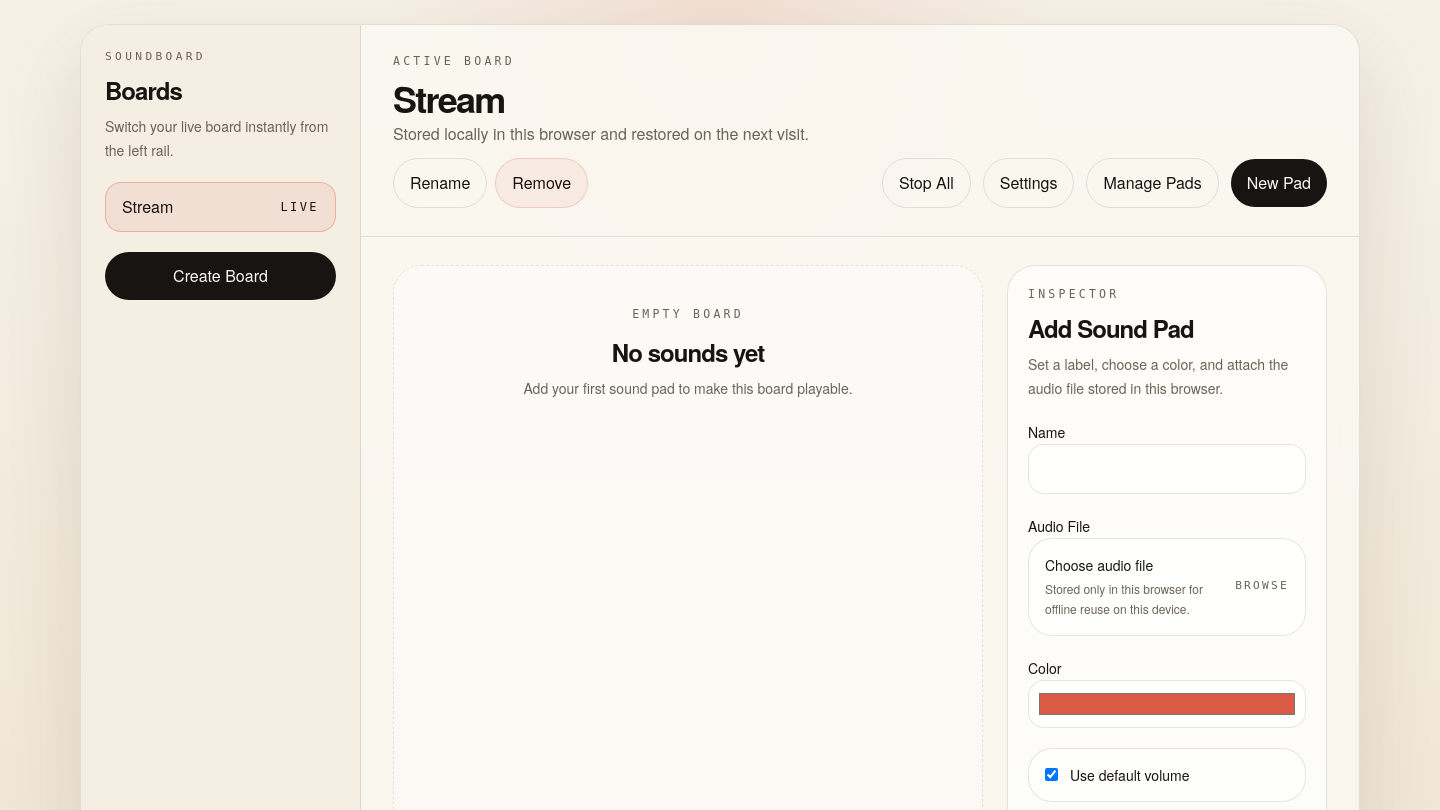
Test case: SoundboardApp › coalesces default pad volume changes before persisting them
Step 1. Click the button "Settings" → (1029, 183), box [983,158,1074,208]
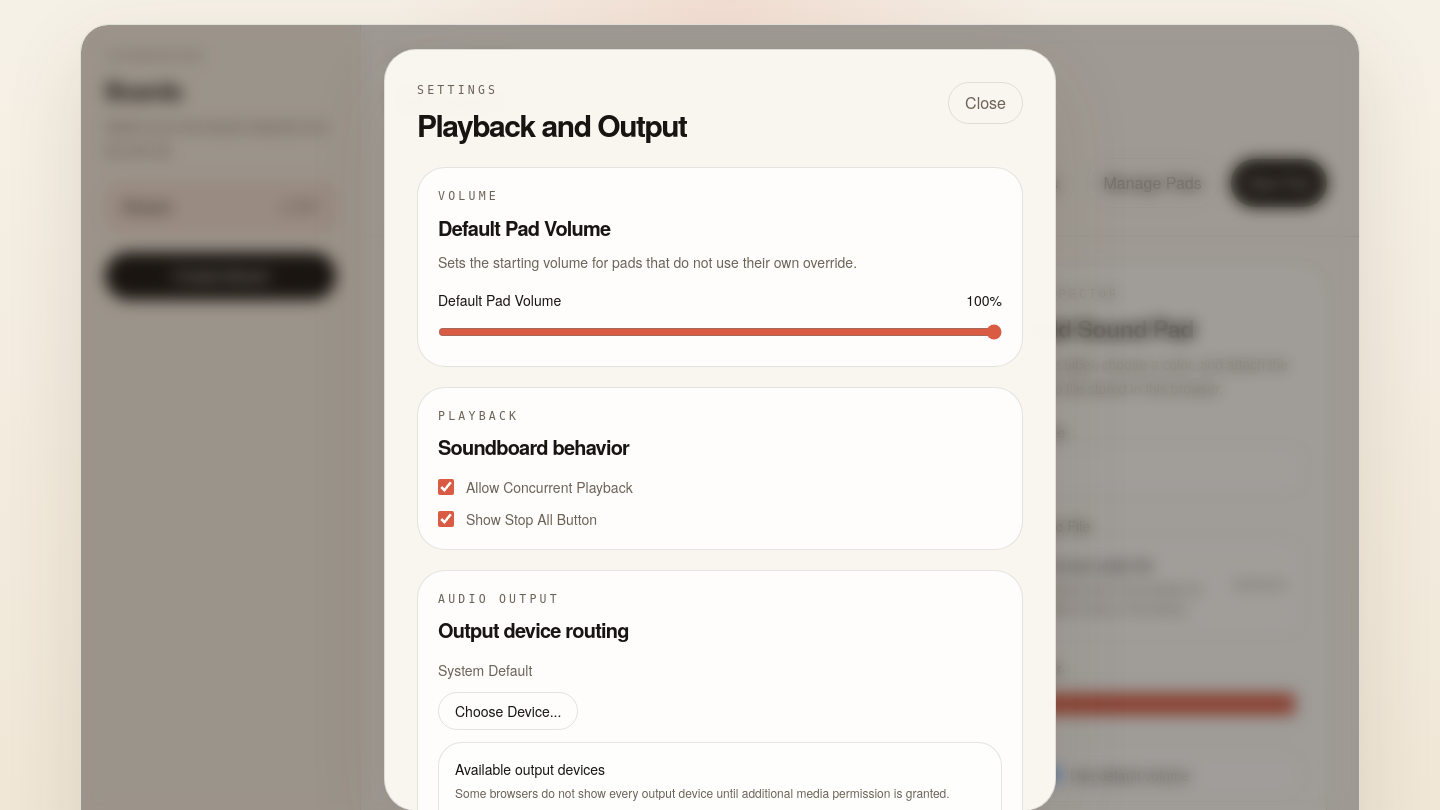
Step 2. Set the slider labelled "Default Pad Volume 100%" to "35" → (638, 332), box [438,324,1002,340]
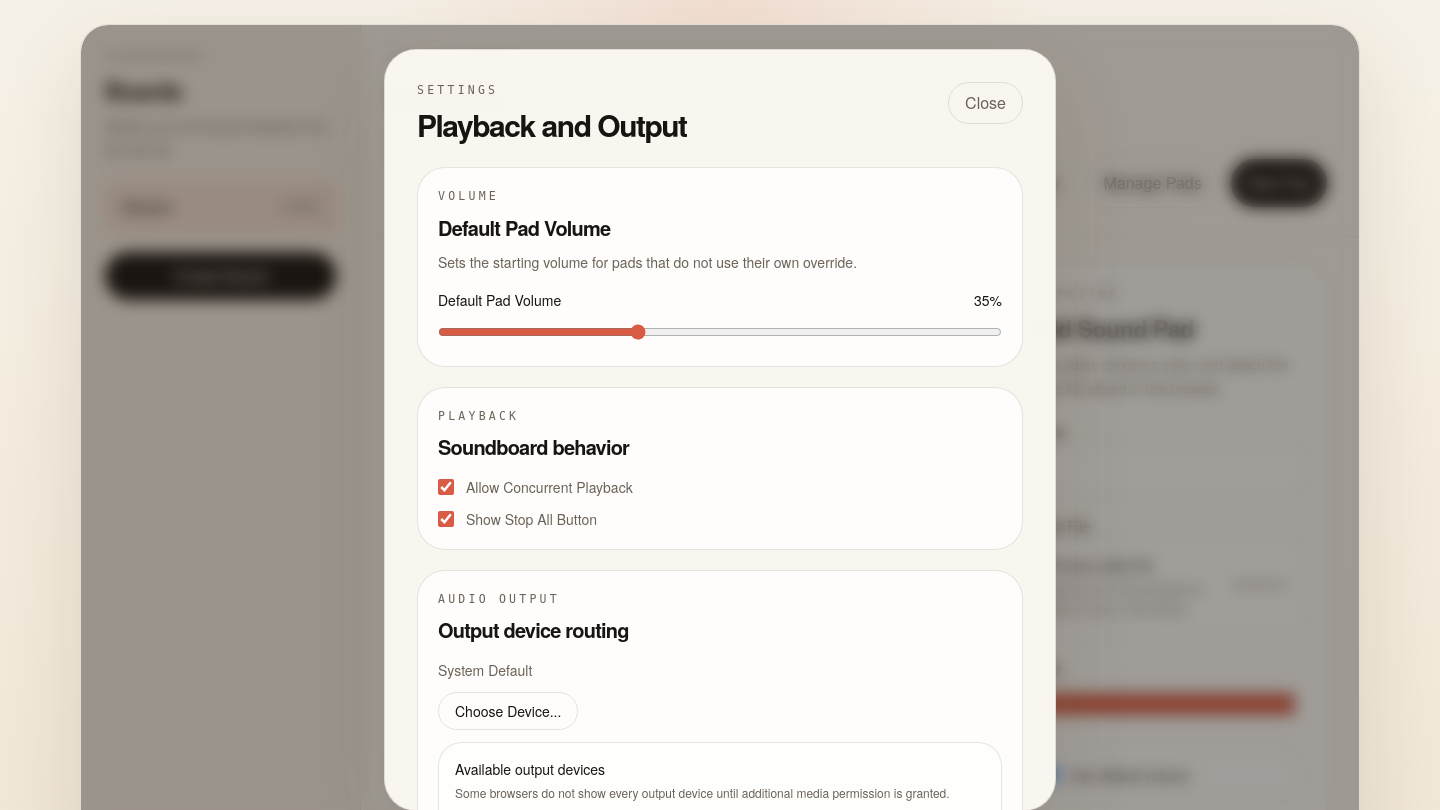
Step 3. Set the slider labelled "Default Pad Volume 35%" to "42" → (676, 332), box [438,324,1002,340]
Wait 250 ms
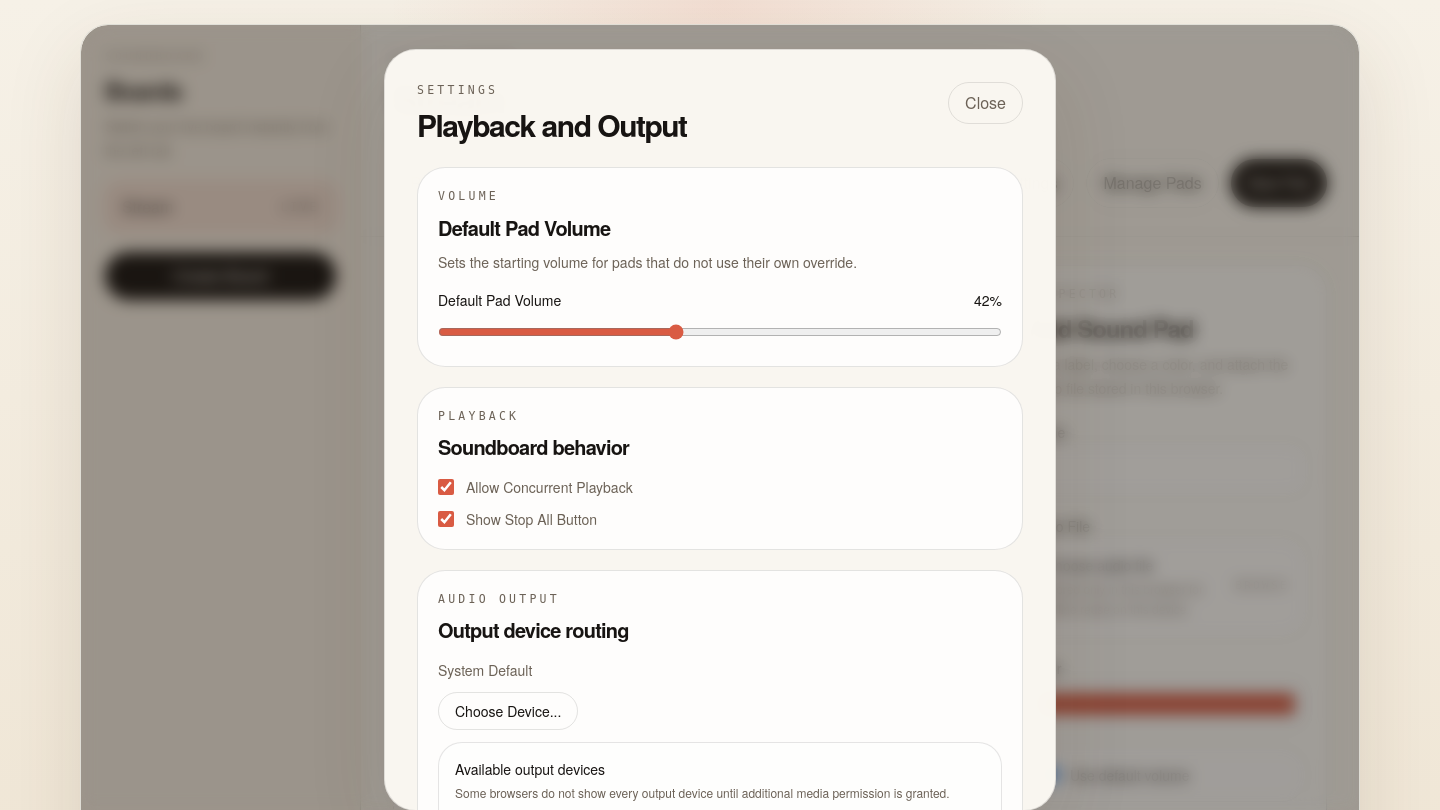
Result: the text "42%" is shown at [974,290,1002,310]
